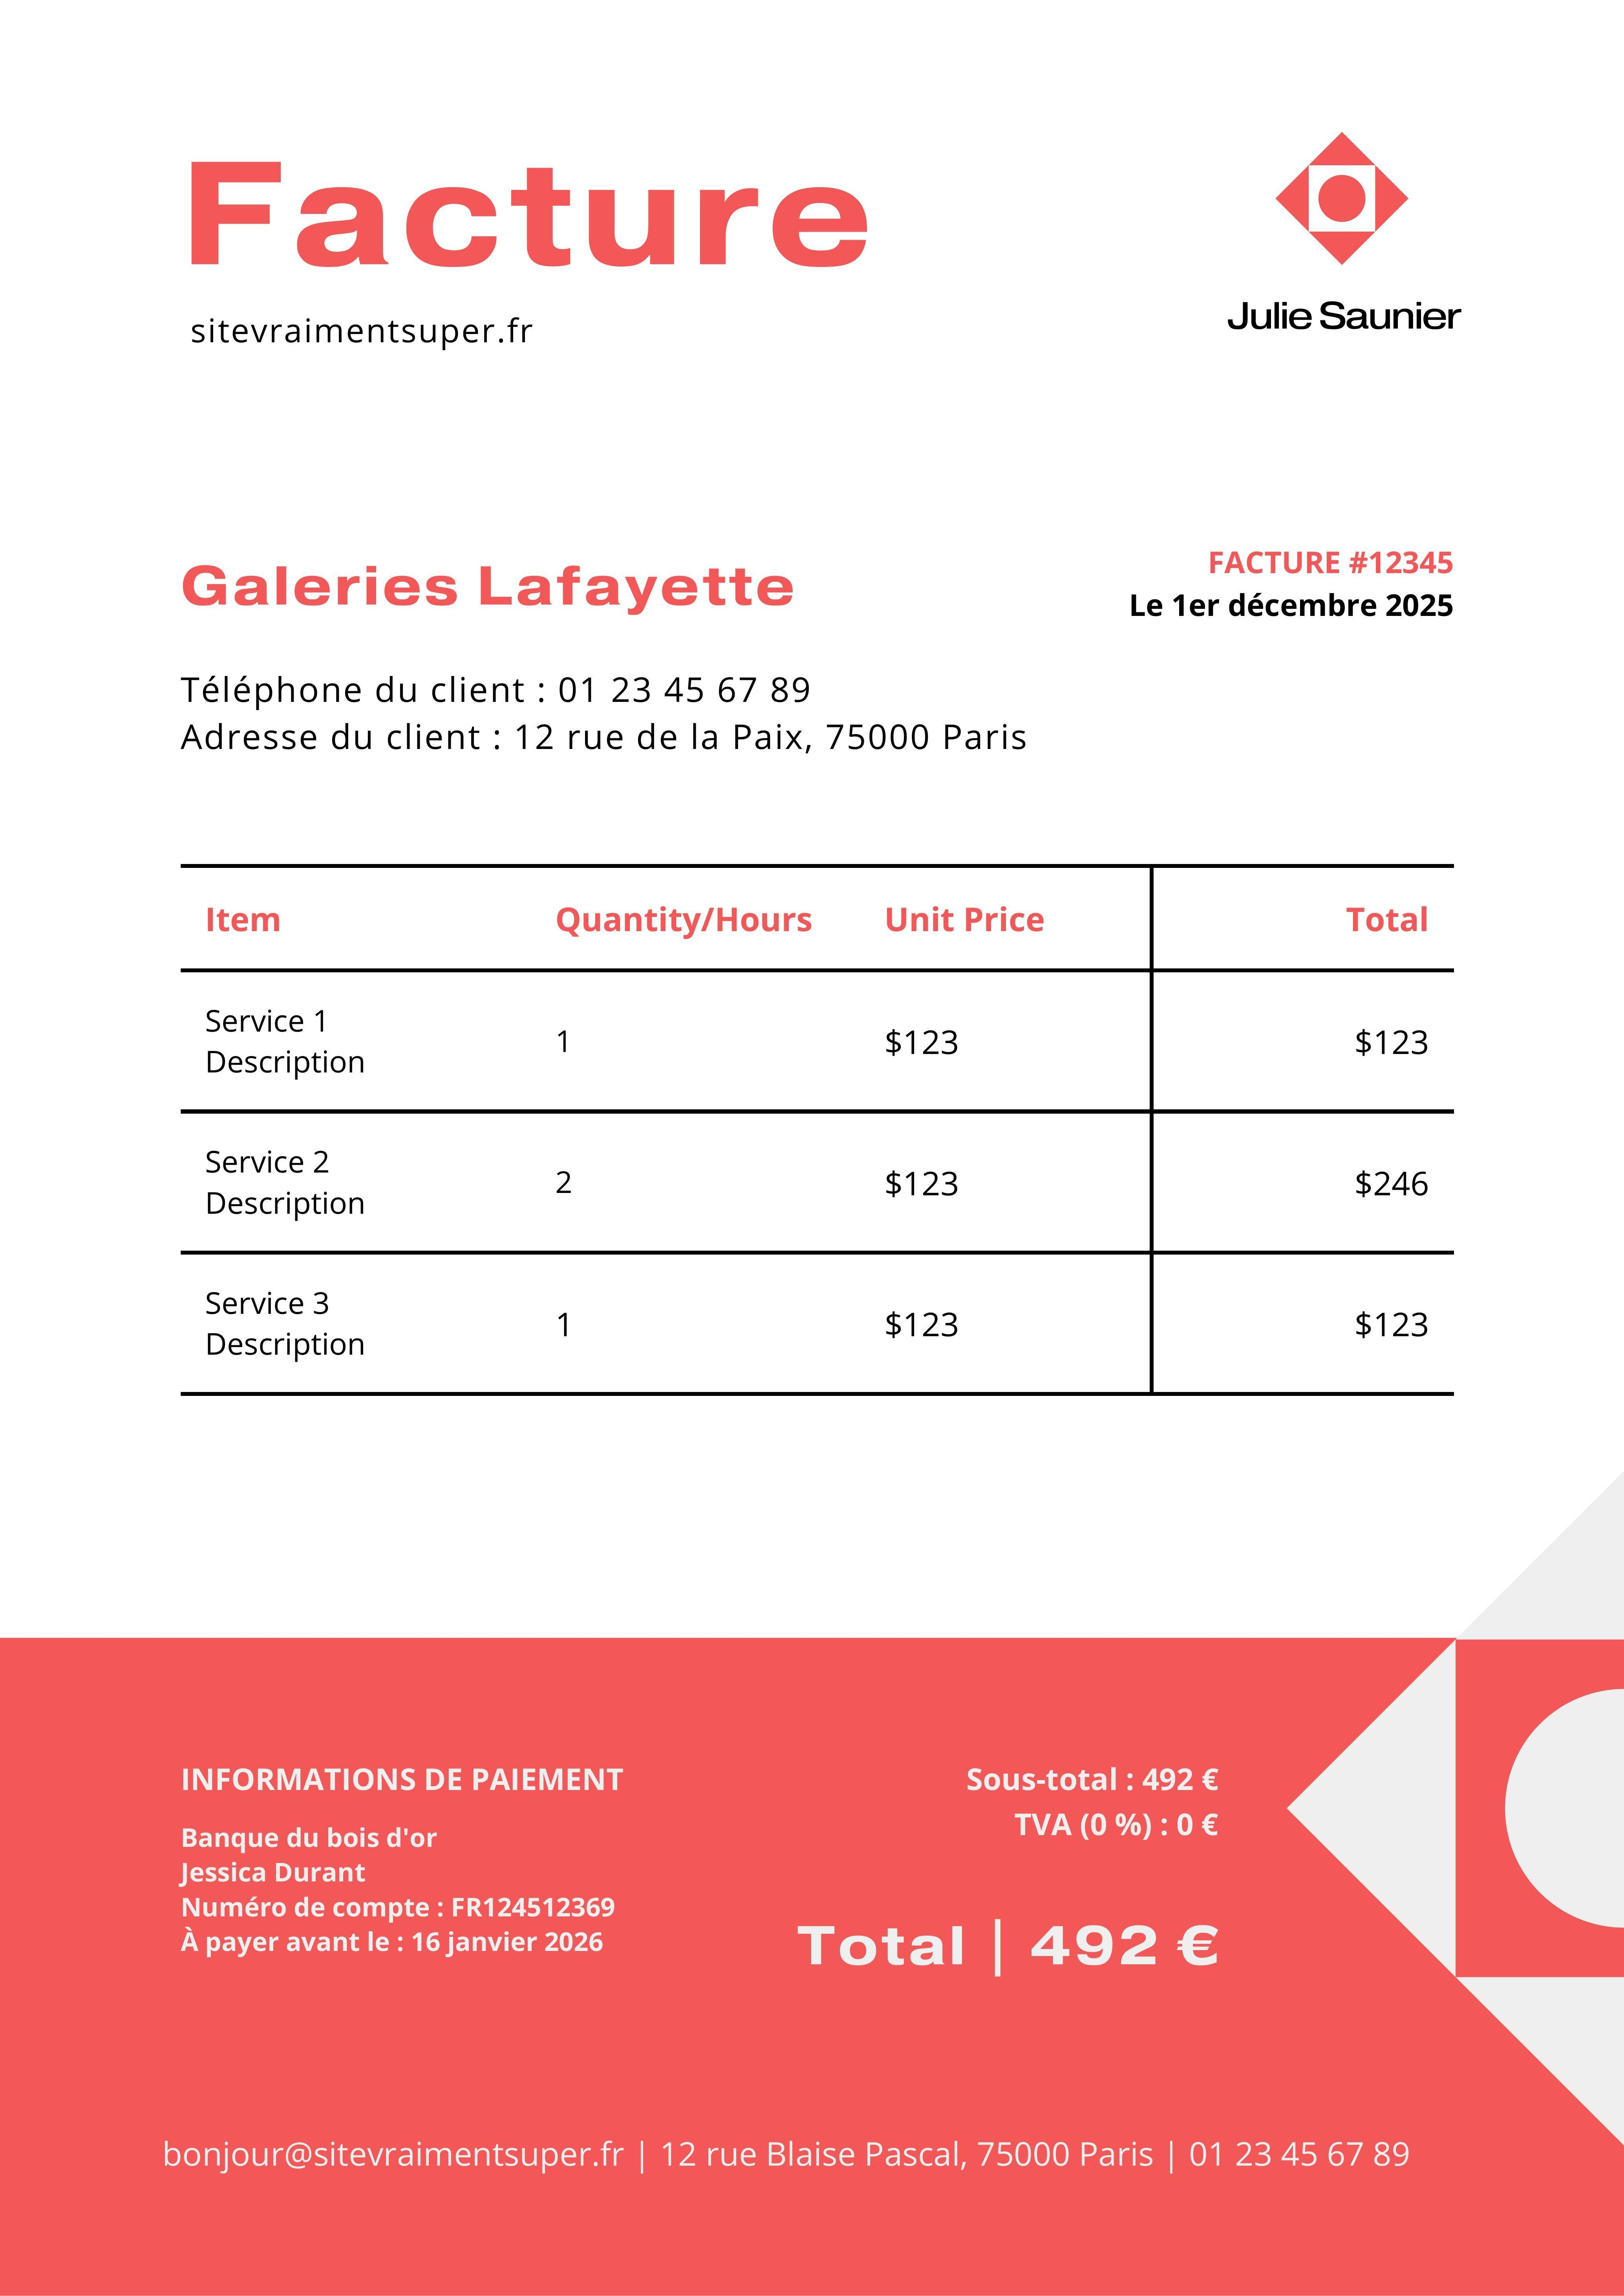ROI: (181, 857, 1455, 1397), (174, 553, 1039, 769), (174, 1750, 678, 1962), (793, 1764, 1232, 1982), (1125, 538, 1464, 639), (1220, 278, 1469, 348)
